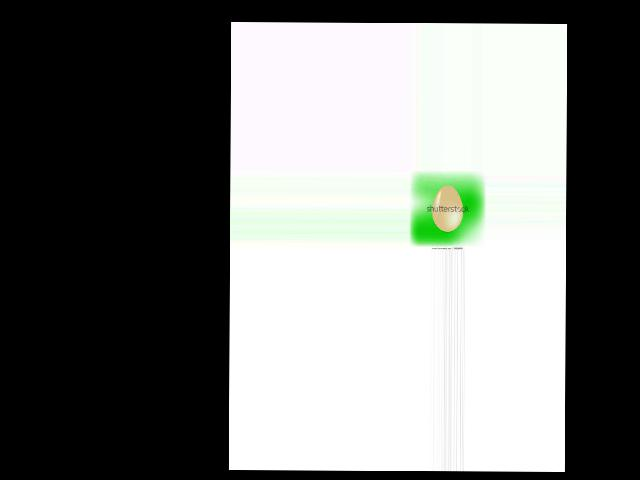egg: (432, 185, 463, 231)
